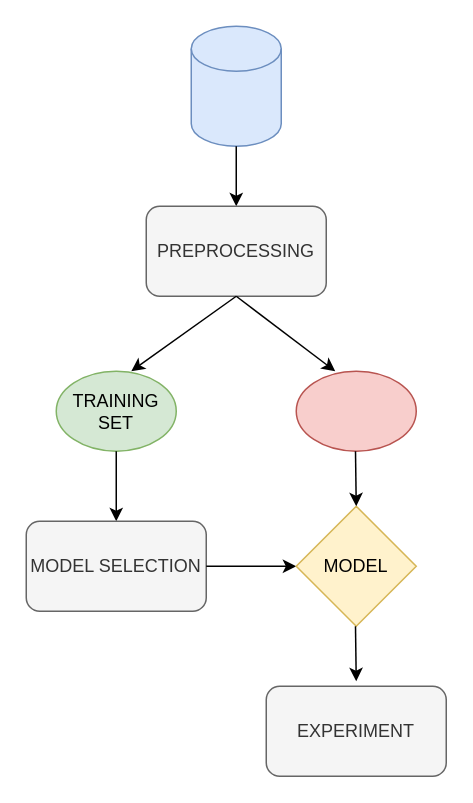
This 473x803 diagram has some shape labels left out. Here are the shapes that lost their labels. From the top down, the centre of each, then its label:
(x=235, y=85): DATASET
(x=355, y=410): TEST SET
